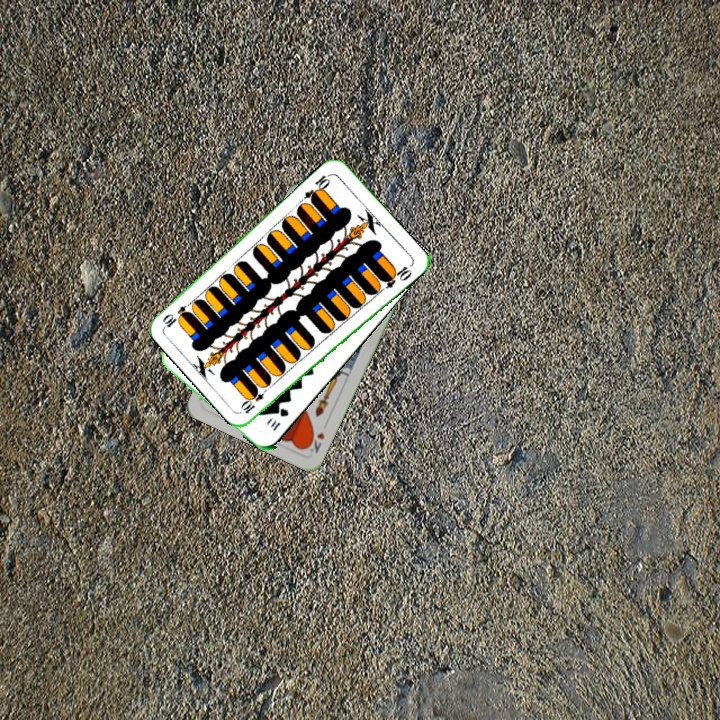E10: (237, 382, 272, 416), (300, 170, 334, 204)
G10: (266, 404, 291, 434)
HK: (302, 427, 327, 456)
